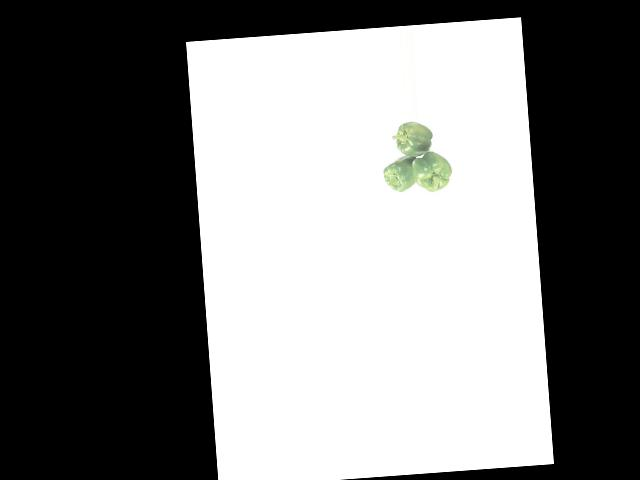bell_pepper: (410, 150, 457, 196)
